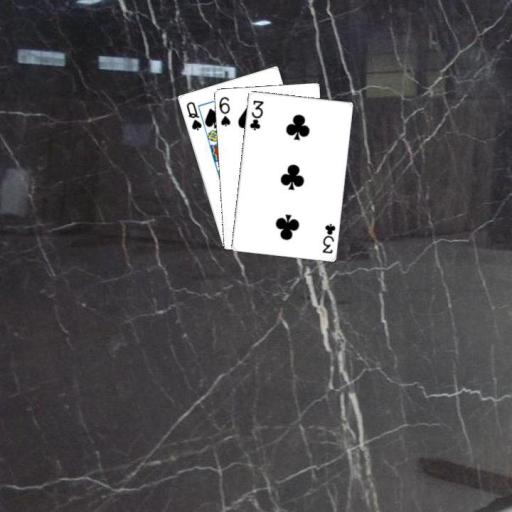3C: (246, 97, 265, 132), (319, 220, 337, 255)
6S: (216, 93, 231, 128)
QS: (183, 98, 203, 132)
